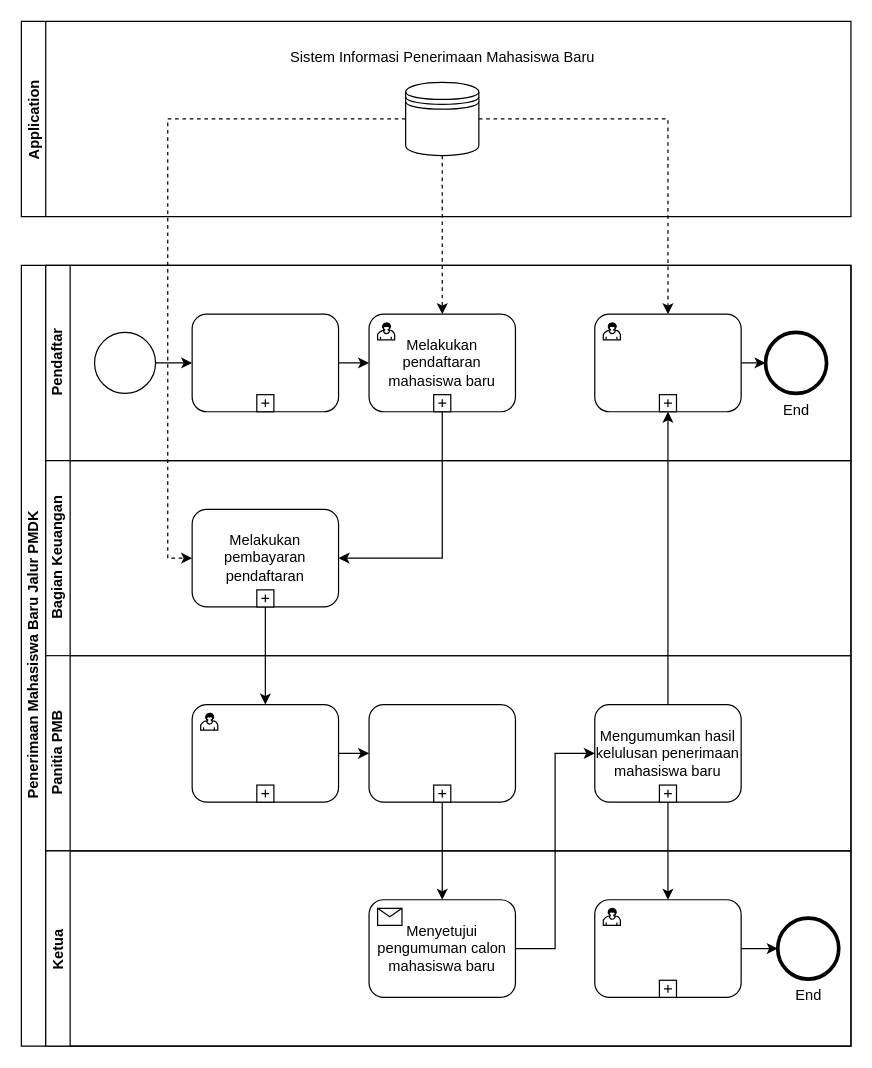
The diagram is 872 pixels wide and 1068 high, and some of its shapes have lost their labels. The shapes that lost their labels are listed below. From the top down, each one's centre as x and y in pixels, then its label:
At pixel 124 362: "Start".
At pixel 265 362: "Mengumpulkan persyaratan pendaftaran".
At pixel 667 362: "Melihat hasil kelulusan calon mahasiswa baru".
At pixel 265 752: "Menetapkan data pendaftaran mahasiswa baru".
At pixel 441 752: "Melakukan seleksi kelulusan mahasiswa".
At pixel 667 948: "Melihat hasil pengumuman mahasiswa baru".
